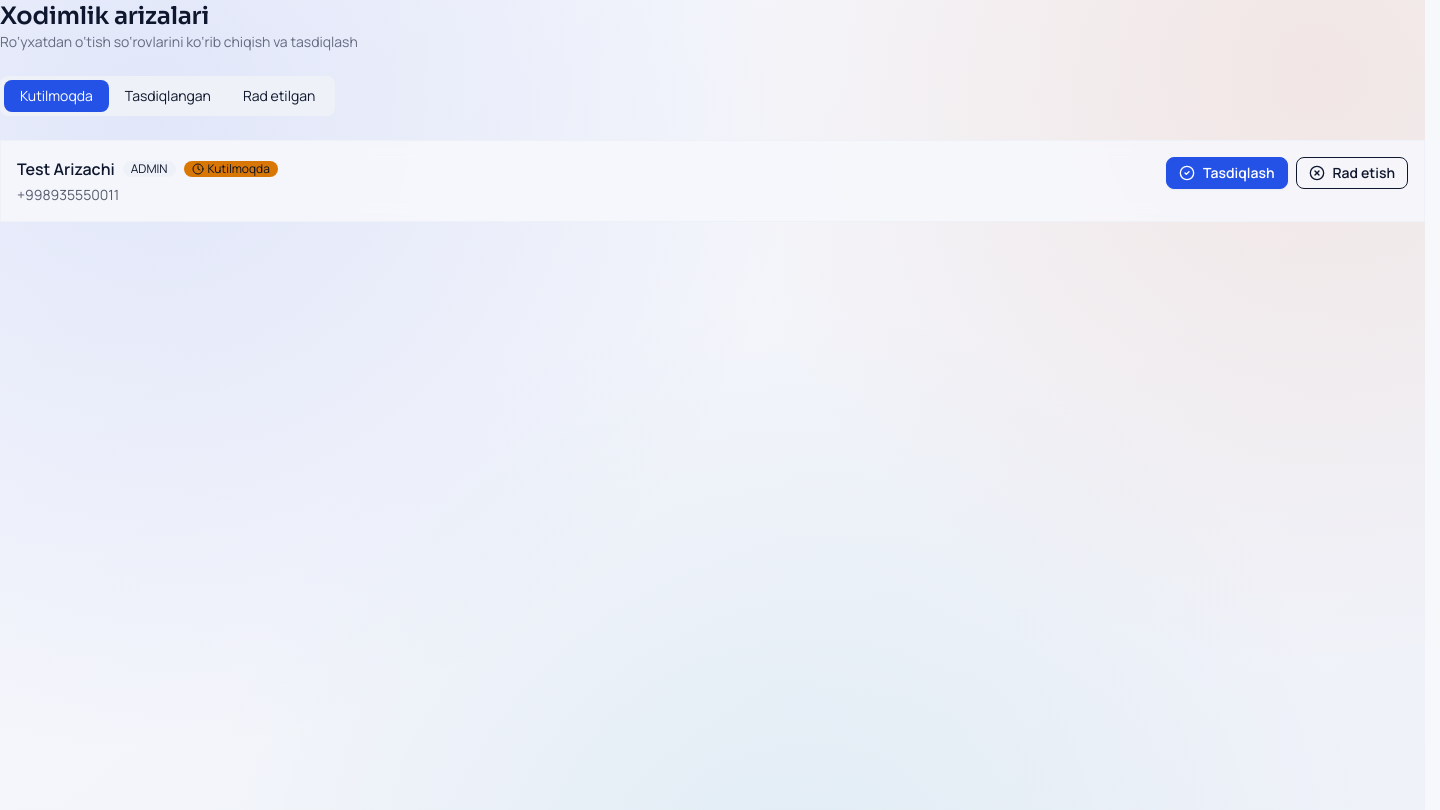
Test: StaffRequestsPage — tasdiqlashda rol tanlash › tasdiqlash darhol yubormaydi — avval oyna ochiladi
Click the button "Tasdiqlash" at (1227, 173), box [1166, 157, 1288, 189]
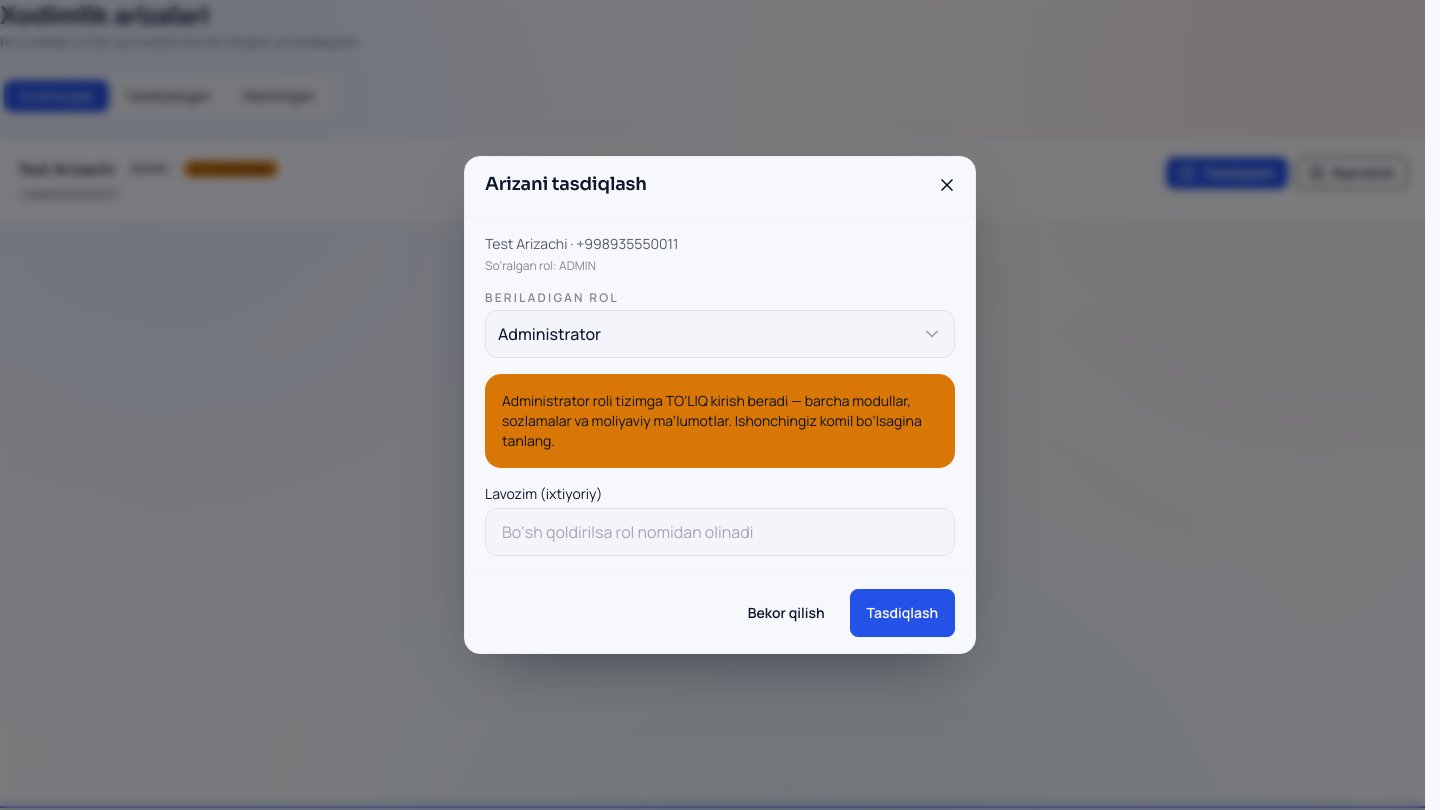
Expected: the heading "Arizani tasdiqlash" is shown, [485, 173, 647, 196]
